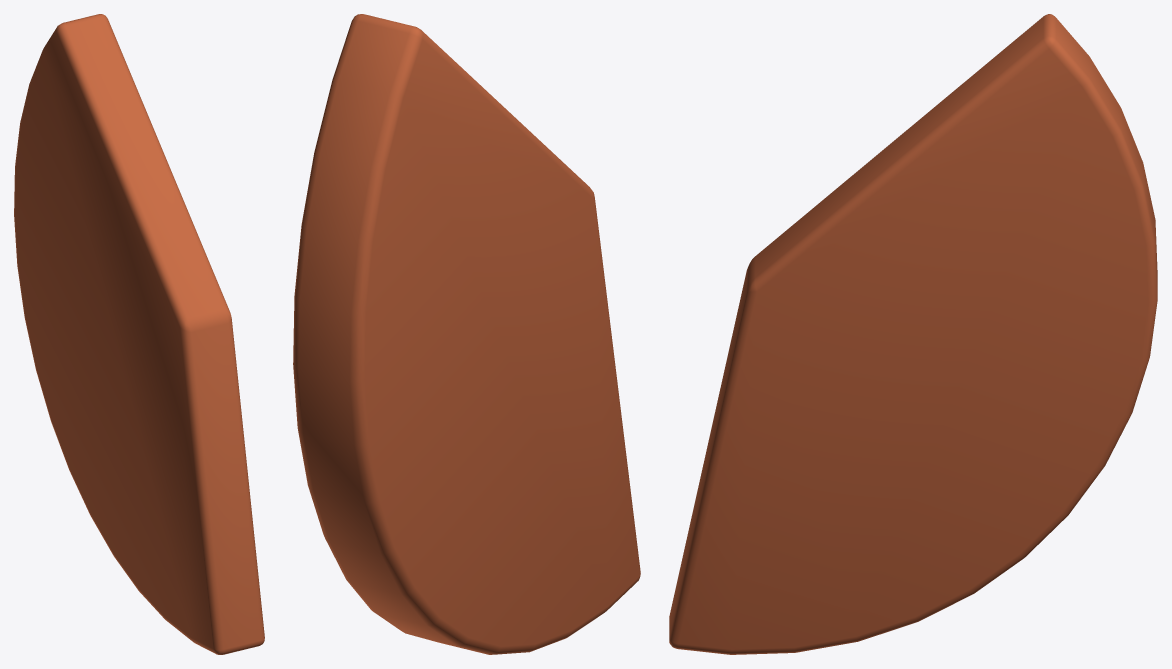
File: mitre_saw_lower_guard.glb
3 renders of one model, left to right at view 1: azimuth 30°, elevation 25°; view 2: azimuth 150°, elevation 25°; view 3: azimuth 270°, elevation 25°, orthographic. The views are drawn at different scales.
Visible parts, largest first — view 1: mitre_saw_lower_guard; view 2: mitre_saw_lower_guard; view 3: mitre_saw_lower_guard.
Boxes of the visible parts, x1=… form: mitre_saw_lower_guard: x1=14, y1=14, x2=264, y2=654; mitre_saw_lower_guard: x1=293, y1=14, x2=640, y2=654; mitre_saw_lower_guard: x1=669, y1=14, x2=1157, y2=654.
Size of the model in its own units: 0.022 by 0.2164 by 0.1551.
